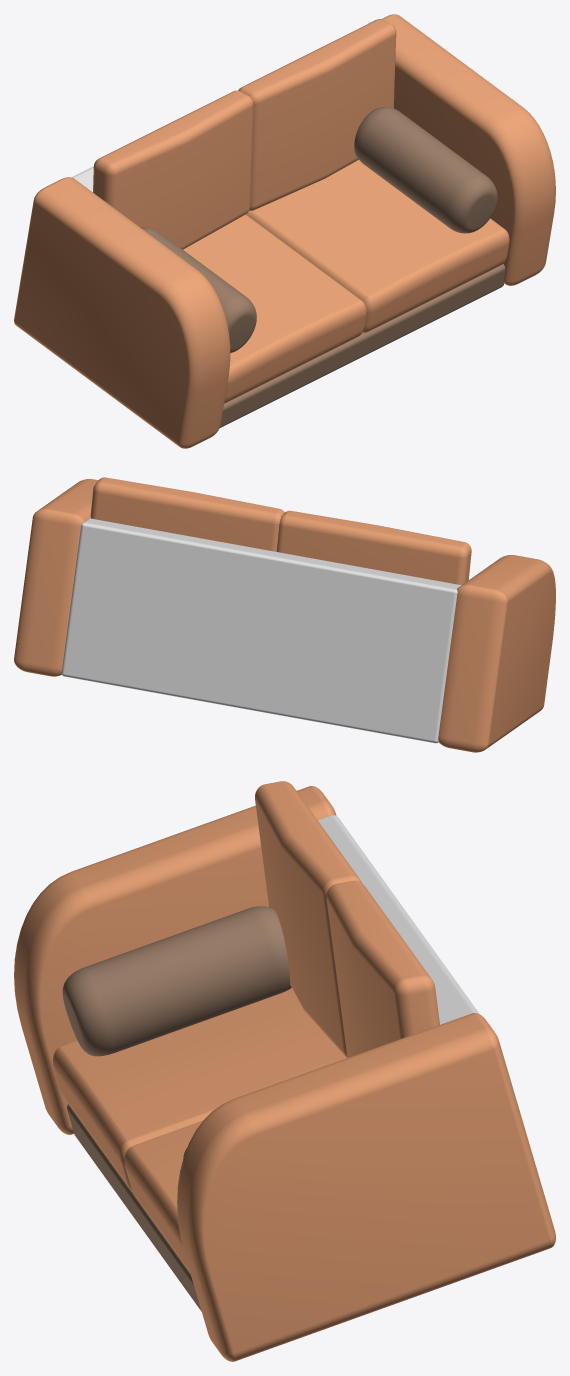
File: two-seat-sofa.glb
3 views of the same model, one above another, from view 1: azimuth 30°, elevation 25°; view 2: azimuth 150°, elevation 25°; view 3: azimuth 270°, elevation 25° (orthographic). The views are drawn at different scales.
Visible parts, largest first — view 1: Cube.145, Cube.146, Cube.148, Cylinder.028, Cube.144; view 2: Cube.147, Cube.145, Cube.148; view 3: Cube.145, Cube.146, Cube.148, Cylinder.028, Cube.147, Cube.144.
Boxes of the visible parts, <box> form: Cube.145: <box>14,14,555,448</box>; Cube.146: <box>183,160,509,403</box>; Cube.148: <box>93,19,396,249</box>; Cylinder.028: <box>141,107,497,352</box>; Cube.144: <box>220,264,505,427</box>; Cube.147: <box>61,518,461,743</box>; Cube.145: <box>14,479,555,752</box>; Cube.148: <box>90,477,471,584</box>; Cube.145: <box>14,786,555,1361</box>; Cube.146: <box>53,988,346,1273</box>; Cube.148: <box>255,781,439,1057</box>; Cylinder.028: <box>62,906,291,1157</box>; Cube.147: <box>318,815,479,1024</box>; Cube.144: <box>67,1104,201,1311</box>.
Bounding box in the file's own units: 3 × 1.52 × 2.04.
